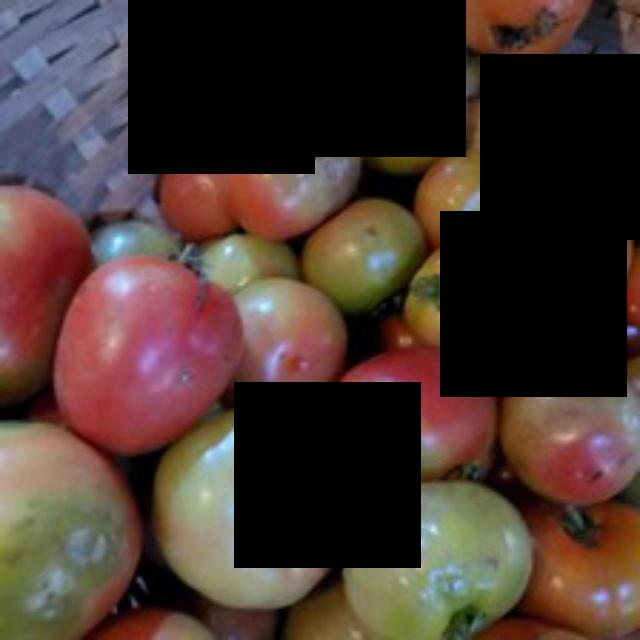tomato: (55, 248, 262, 454)
